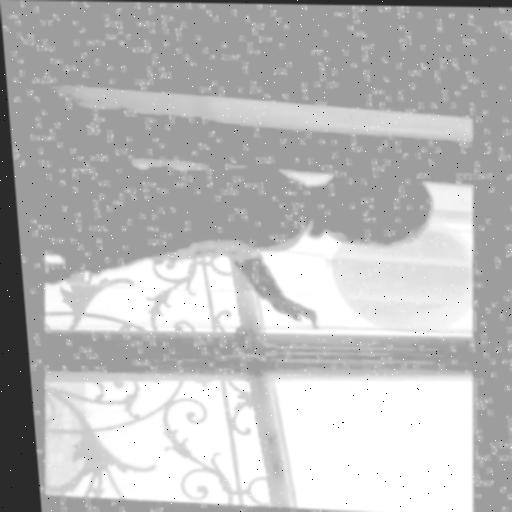balloon: (323, 218, 485, 331)
